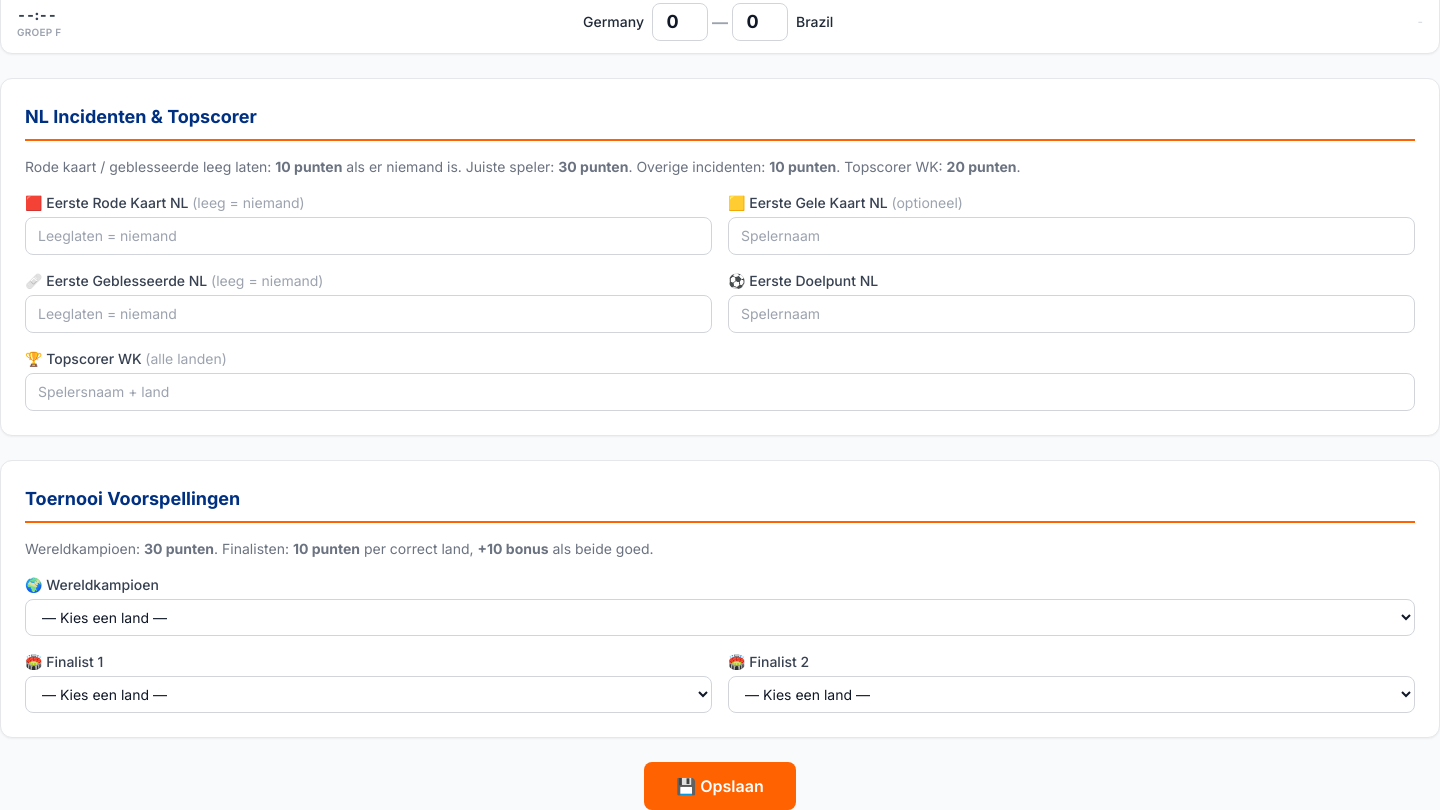
Test: WkPouleForm › counts default 0-0 group matches as filled after saving
(page scrolled)
Click the button "💾 Opslaan" at (720, 786), box [644, 762, 796, 809]
(page scrolled)
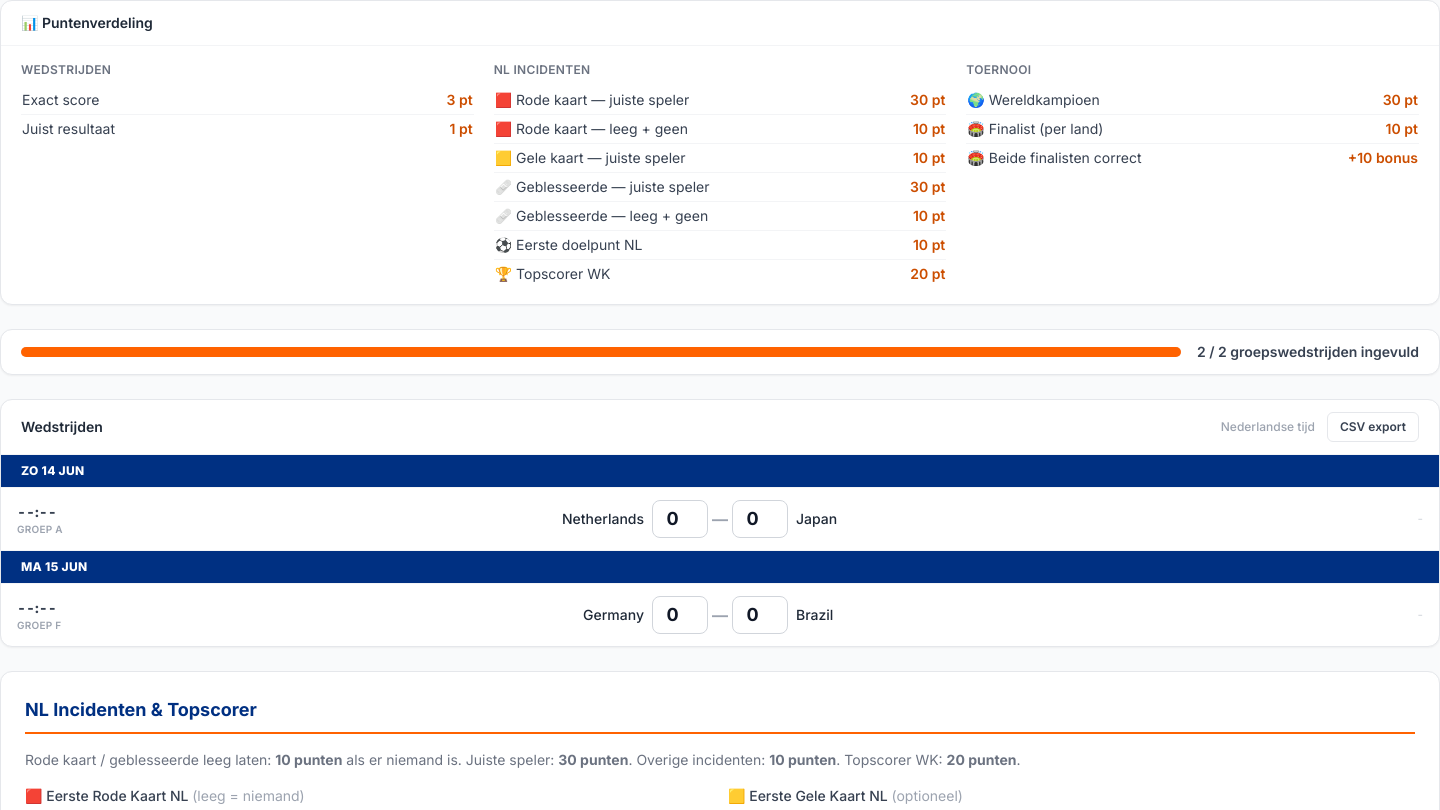
Expected: the text "2 / 2 groepswedstrijden ingevuld" is shown, [1197, 342, 1419, 362]
